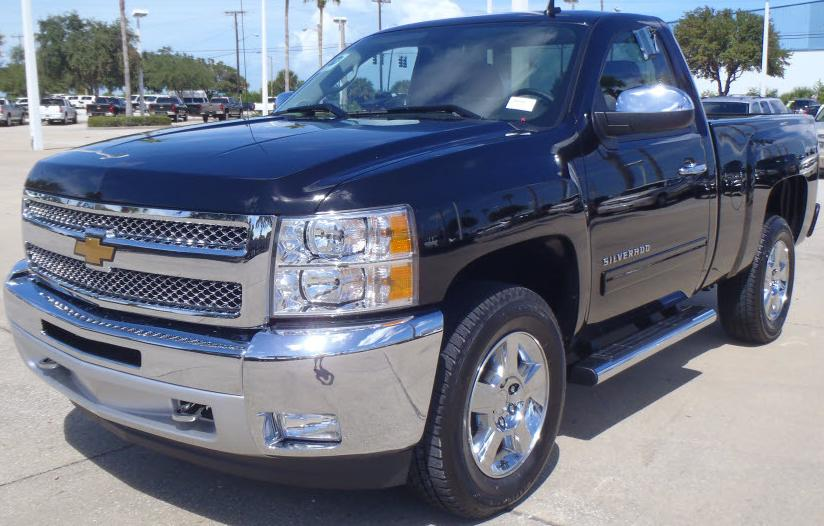front_view: (15, 171, 423, 453)
headlight: (272, 206, 426, 318)
side_glass: (581, 34, 699, 143)
